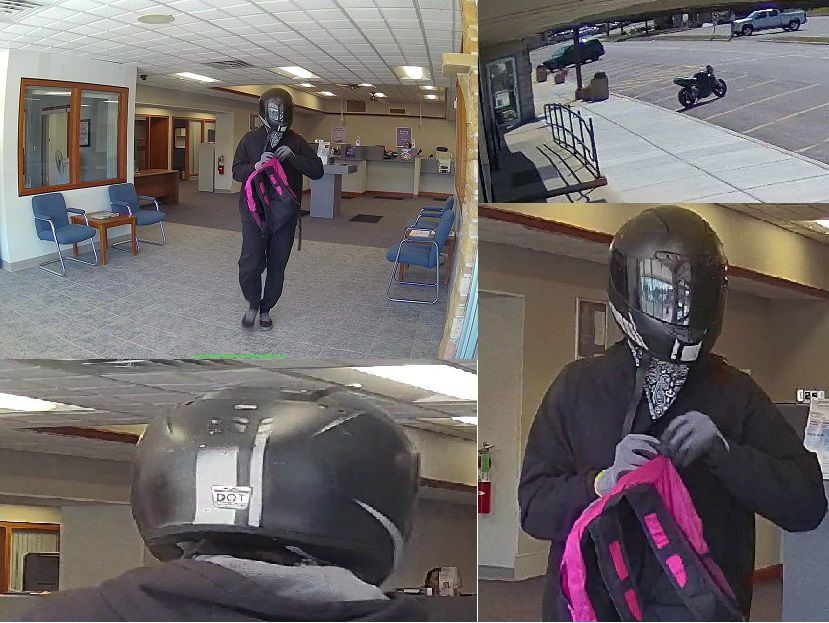helmet: (115, 369, 422, 571), (588, 205, 745, 369), (253, 85, 295, 135)
